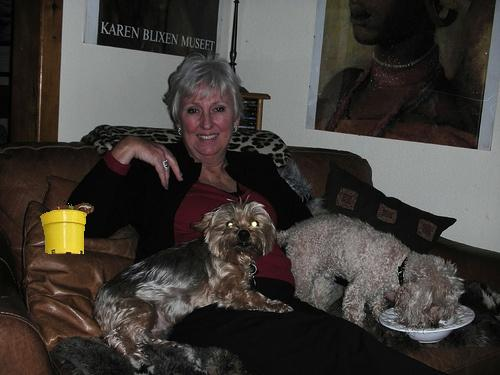tampered: (41, 201, 94, 254)
